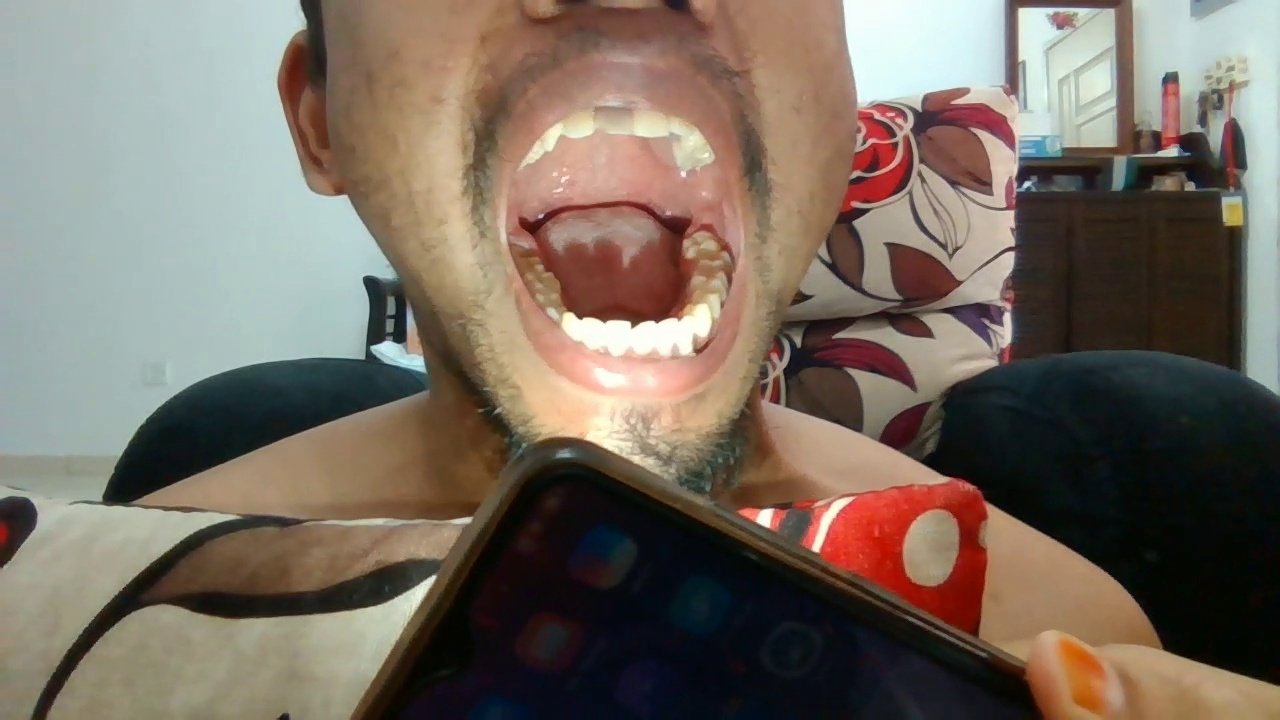1st Molar: (689, 267, 727, 294), (524, 272, 560, 292)
1st Premolar: (684, 304, 713, 337)
2nd Molar: (696, 248, 734, 271), (514, 256, 545, 273)
2nd Premolar: (691, 289, 722, 319), (534, 293, 562, 309)
3rd Molar: (681, 231, 718, 257)
Canine: (541, 122, 562, 154), (562, 308, 582, 340), (680, 314, 695, 356)
Central Incisor: (593, 106, 634, 136), (634, 110, 670, 138), (605, 318, 631, 354), (631, 320, 657, 354)
Lateral Incisor: (561, 109, 596, 138), (581, 315, 605, 354), (657, 318, 681, 356), (670, 115, 696, 139)
